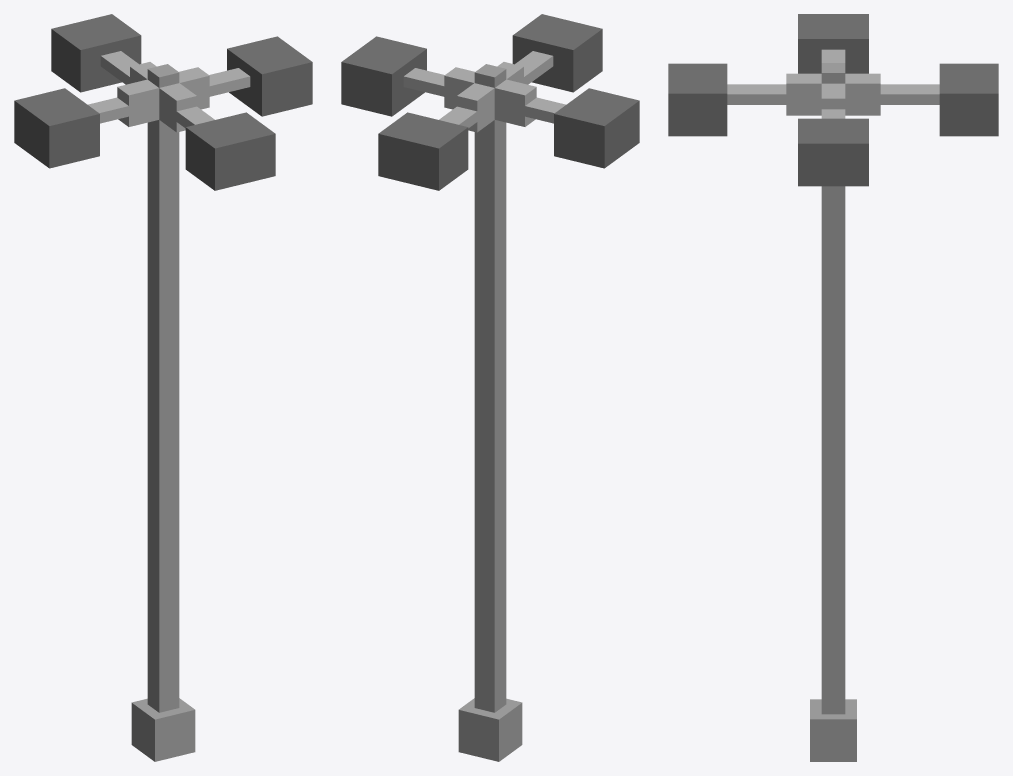
File: obj_stlight3.obj
3 views of the same model, side by side, from view 1: azimuth 30°, elevation 25°; view 2: azimuth 150°, elevation 25°; view 3: azimuth 270°, elevation 25° (orthographic).
Bounding box in the file's own units: 2.6 × 6.4 × 2.8.
Materials: 1 (1 with a texture image).
